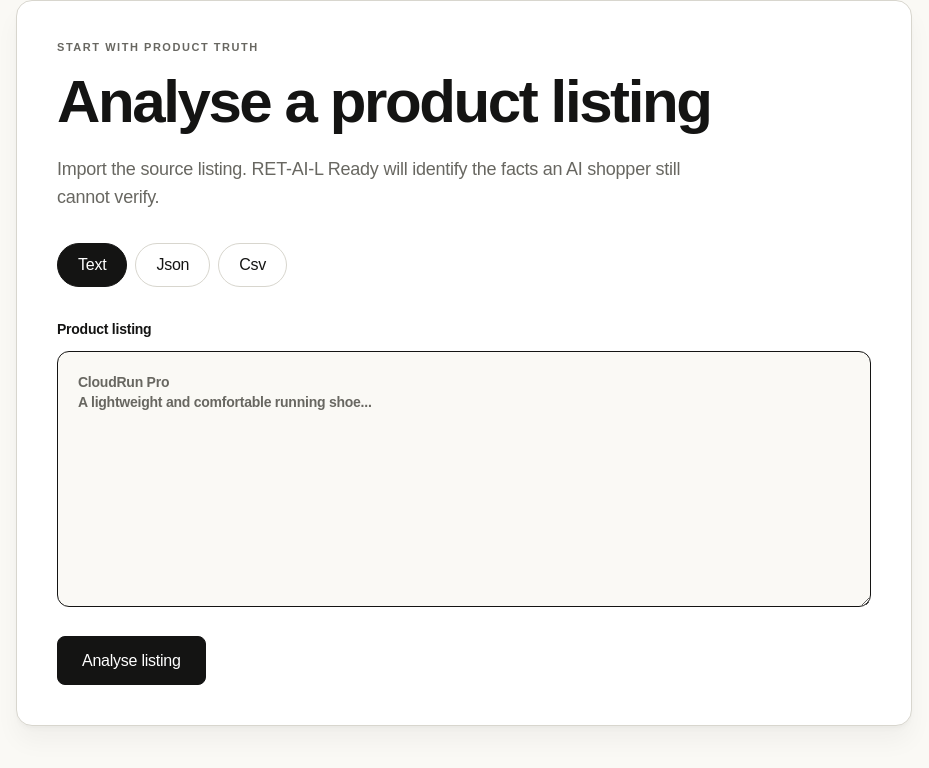
Test case: ImportListingForm › shows the request ID when the import API rejects the listing
Type "CloudRun Pro lightweight shoe" into the text box labelled "Product listing" at (464, 479), box [57,351,871,607]
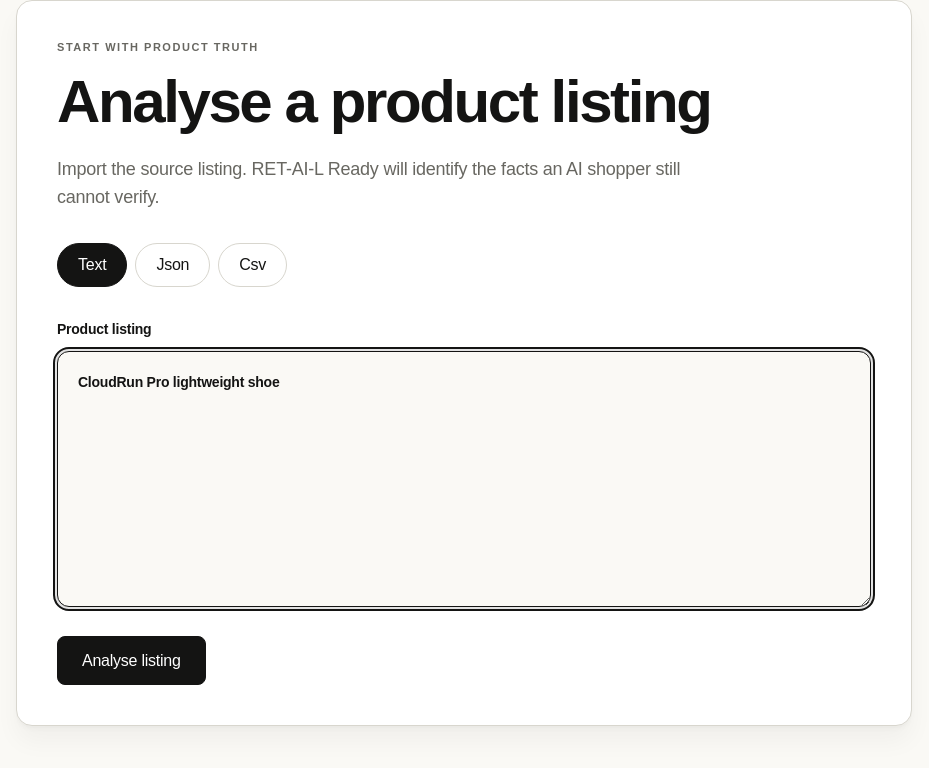
Click the button "Analyse listing" at (131, 661), box [57,636,206,685]
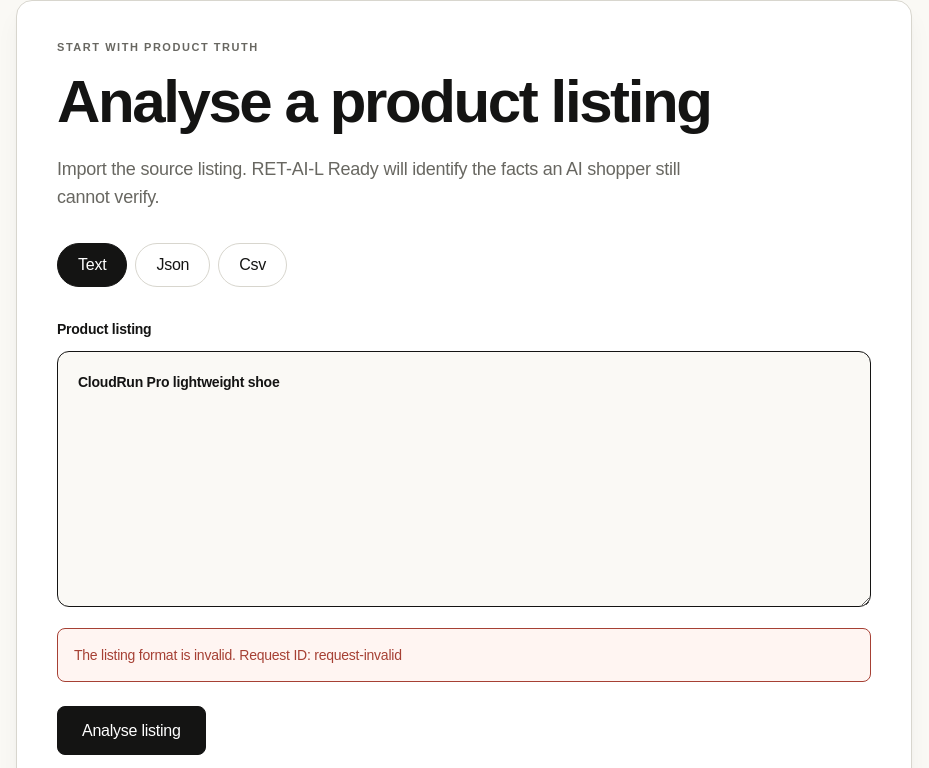
Now the message reads "The listing format is invalid. Request ID: request-invalid", box [74,647,402,663]
